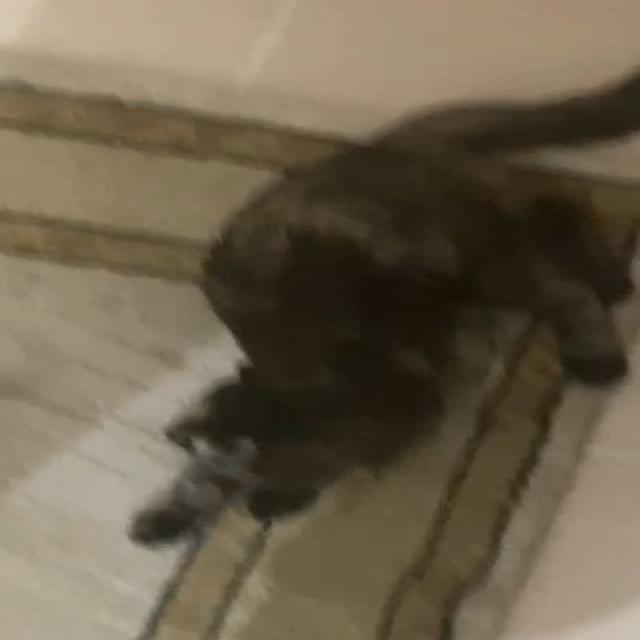authorized: (3, 61, 637, 636)
